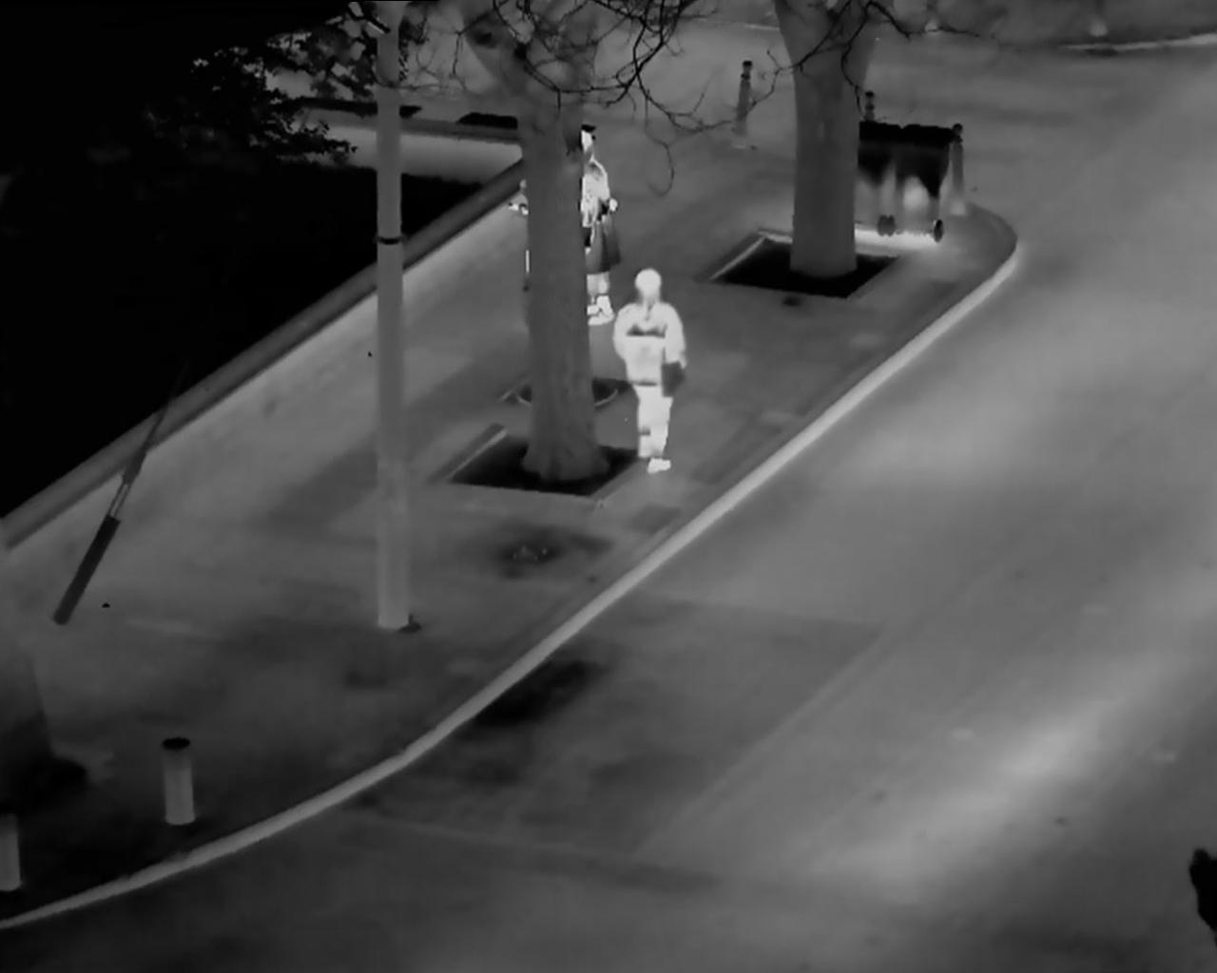person: (604, 256, 706, 519), (565, 126, 634, 323)
